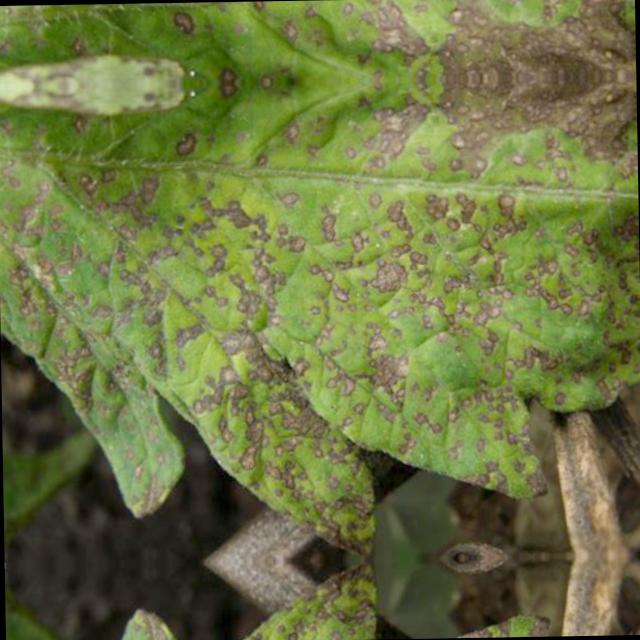Lettuce - Anthracnose: (0, 75, 640, 561), (0, 0, 635, 84), (4, 557, 640, 640)
